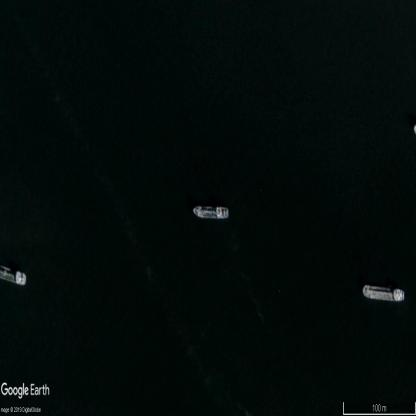ship: (363, 286, 404, 303), (194, 203, 229, 222), (0, 264, 26, 288)
